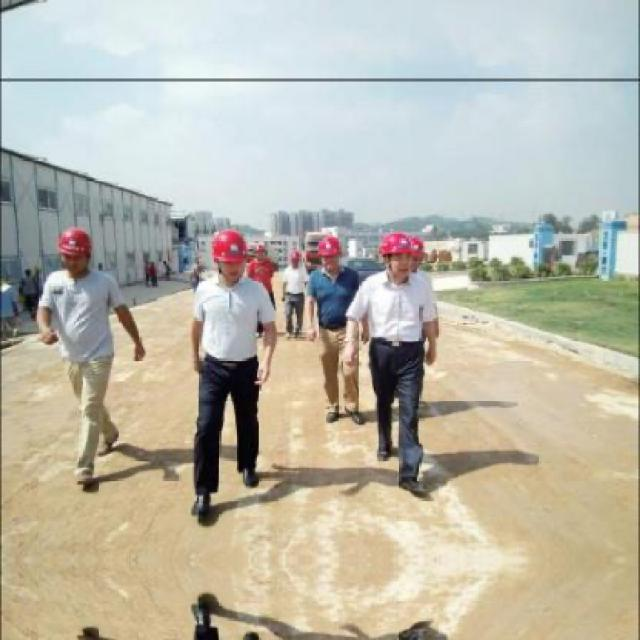helmet: (57, 223, 100, 274), (210, 228, 252, 280), (378, 231, 414, 274), (316, 228, 344, 274), (406, 237, 425, 278), (254, 240, 268, 262), (288, 249, 302, 269)
